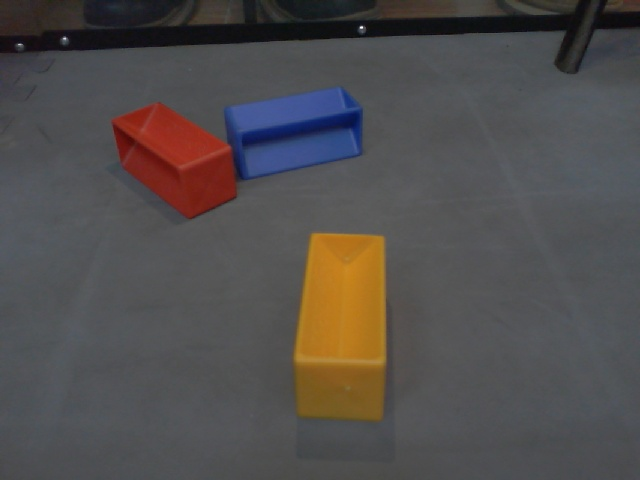BlueSample: (223, 85, 366, 181)
RedSample: (111, 99, 237, 222)
YellowSample: (292, 230, 394, 426)
